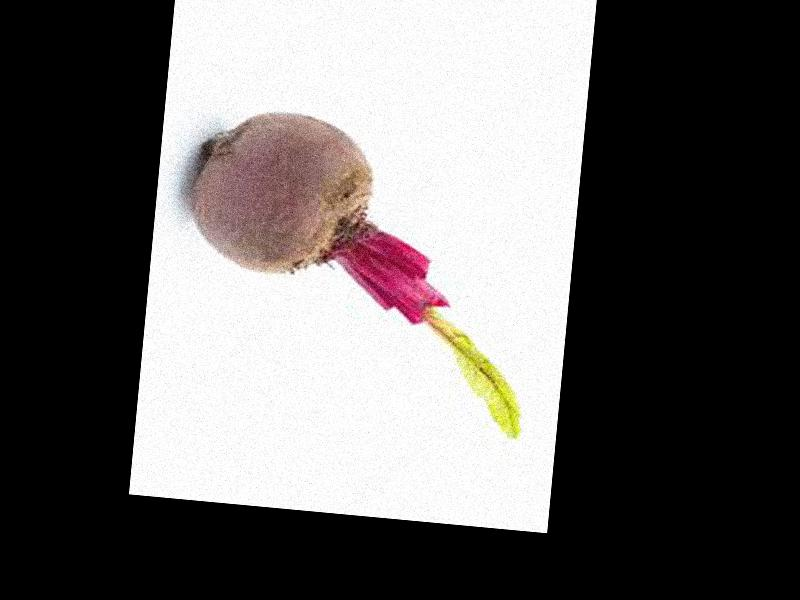Beet: (173, 103, 546, 436)
